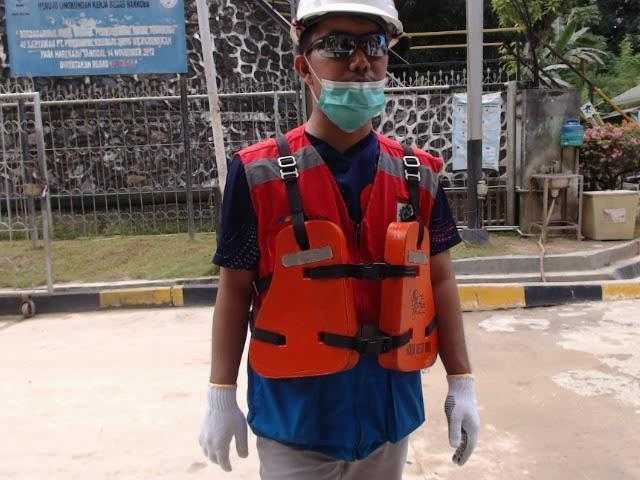vest: (247, 220, 440, 380)
